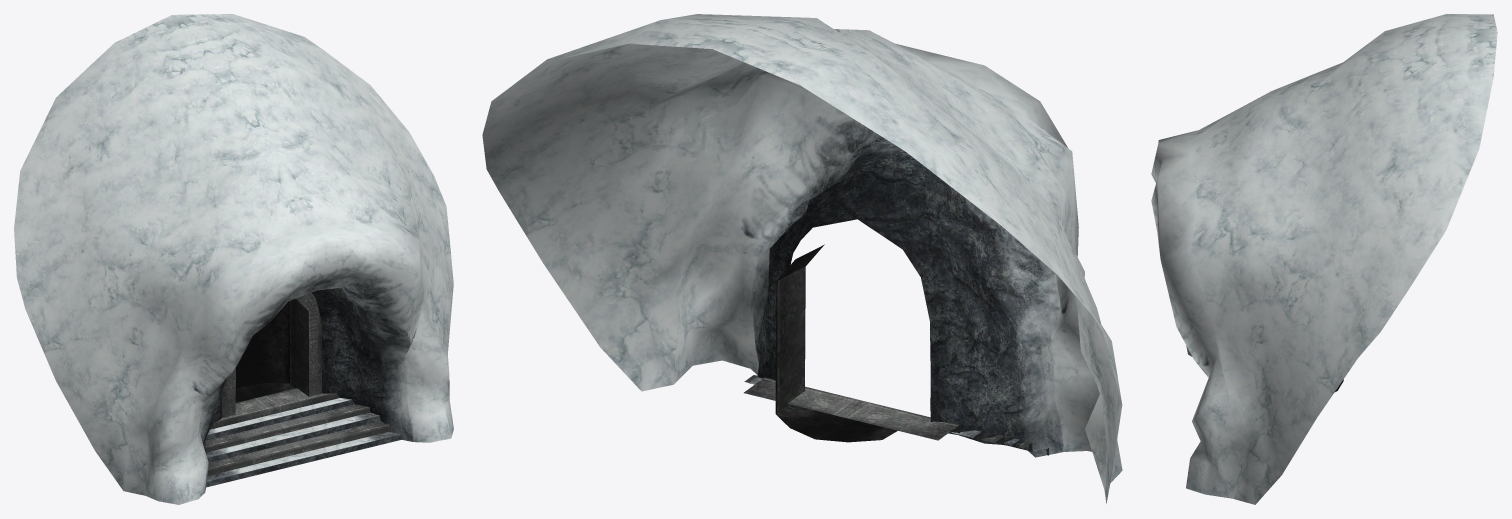
Rendered from icecrystalscave_gate.fbx.
3 views of the same model, side by side, from view 1: azimuth 30°, elevation 25°; view 2: azimuth 150°, elevation 25°; view 3: azimuth 270°, elevation 25° (orthographic). The views are drawn at different scales.
Visible parts, largest first — view 1: icecrystalscave_gate_rock2, icecrystalscave_gate_bilid; view 2: icecrystalscave_gate_rock2, icecrystalscave_gate_bilid; view 3: icecrystalscave_gate_rock2.
Boxes of the visible parts, x1=… form: icecrystalscave_gate_rock2: x1=14, y1=14, x2=453, y2=504; icecrystalscave_gate_bilid: x1=205, y1=293, x2=389, y2=475; icecrystalscave_gate_rock2: x1=482, y1=14, x2=1122, y2=503; icecrystalscave_gate_bilid: x1=744, y1=244, x2=1032, y2=451; icecrystalscave_gate_rock2: x1=1151, y1=14, x2=1497, y2=504.
Size of the model in its own units: 32.4 by 26.15 by 21.18.
